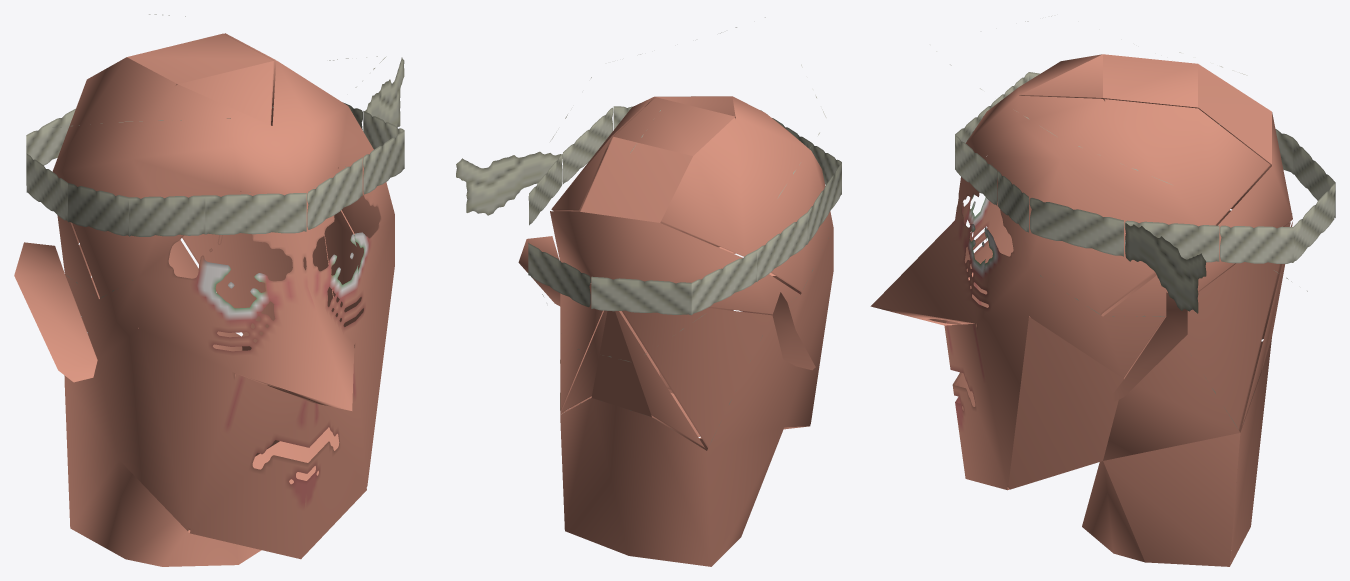
File: The_sushi_chef_in_every_anime_ever.glb
3 views of the same model, side by side, from view 1: azimuth 30°, elevation 25°; view 2: azimuth 150°, elevation 25°; view 3: azimuth 270°, elevation 25° (orthographic). The views are drawn at different scales.
Visible parts, largest first — view 1: unnamed; view 2: unnamed; view 3: unnamed.
Boxes of the visible parts, x1=… form: unnamed: x1=14, y1=14, x2=404, y2=566; unnamed: x1=456, y1=17, x2=841, y2=566; unnamed: x1=870, y1=16, x2=1335, y2=566.
Size of the model in its own units: 10.5 by 12.75 by 11.
Materials: 1 (1 with a texture image).
